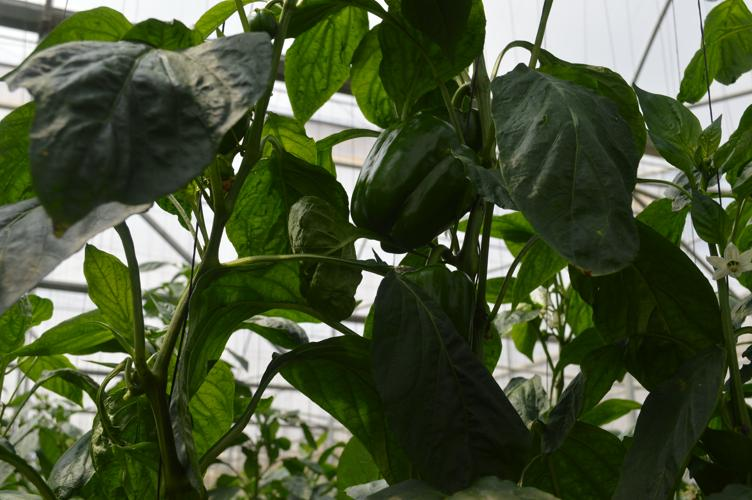BellPepper: (345, 118, 476, 245), (394, 260, 478, 346)
